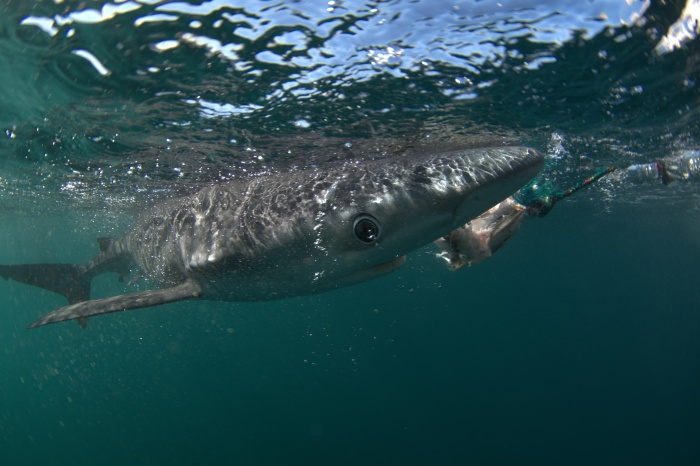Azul: (1, 110, 611, 379)
